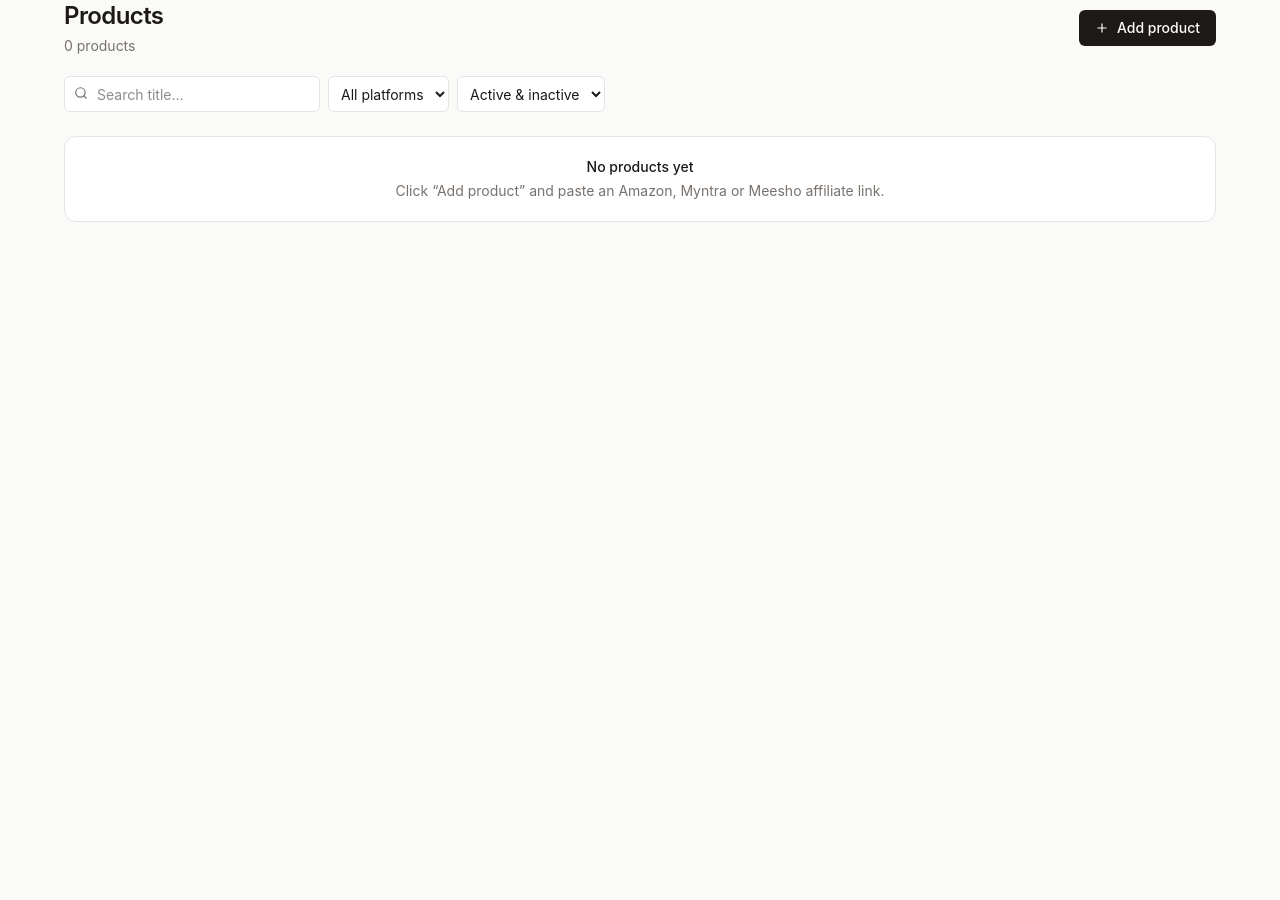
Test: Products page › validates a bad price before calling the API
The width and height of the screenshot is (1280, 900).
Click the button "Add product" at [1148, 28], box [1079,10,1216,46]
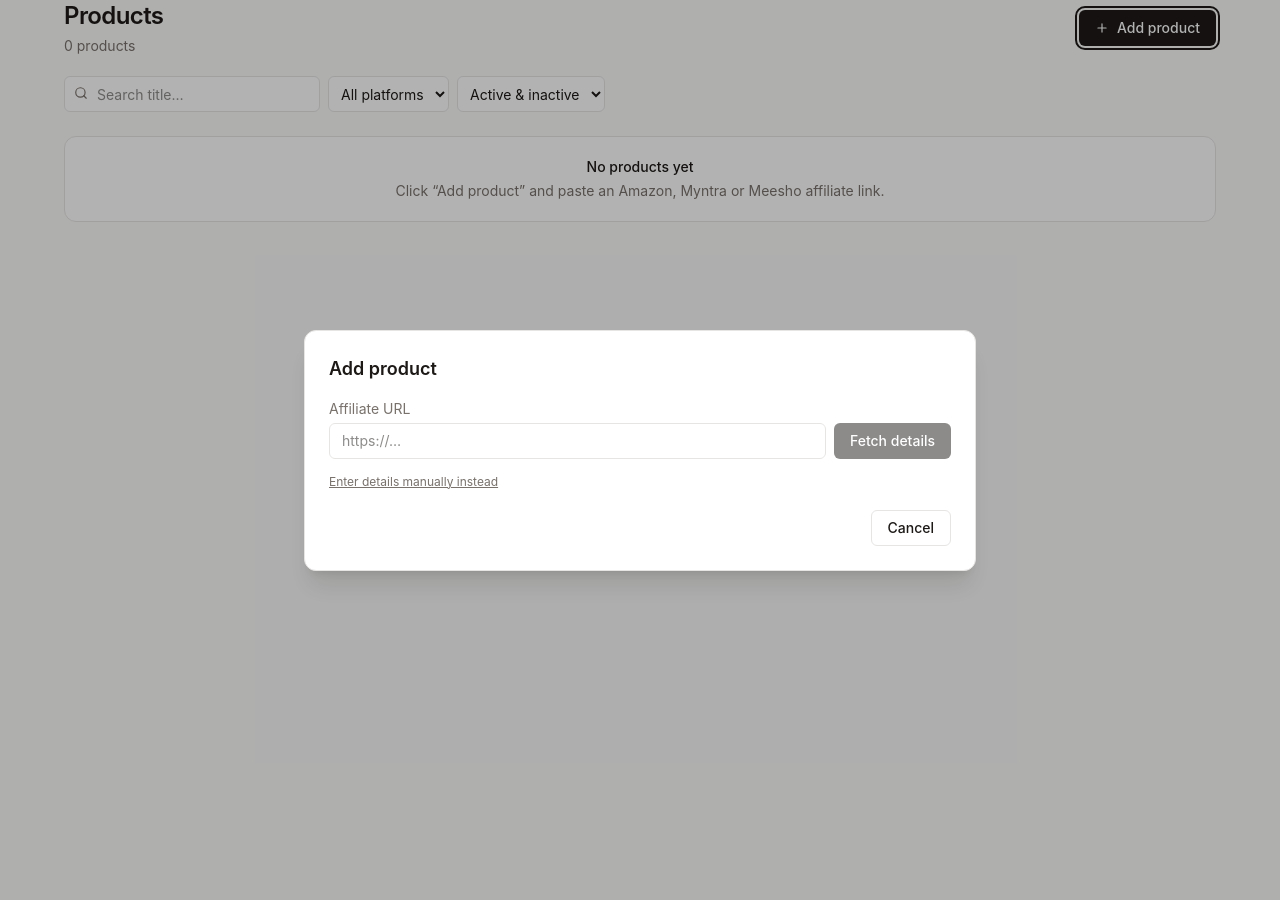
Click the button "Enter details manually instead" at [414, 482], box [329,474,498,490]
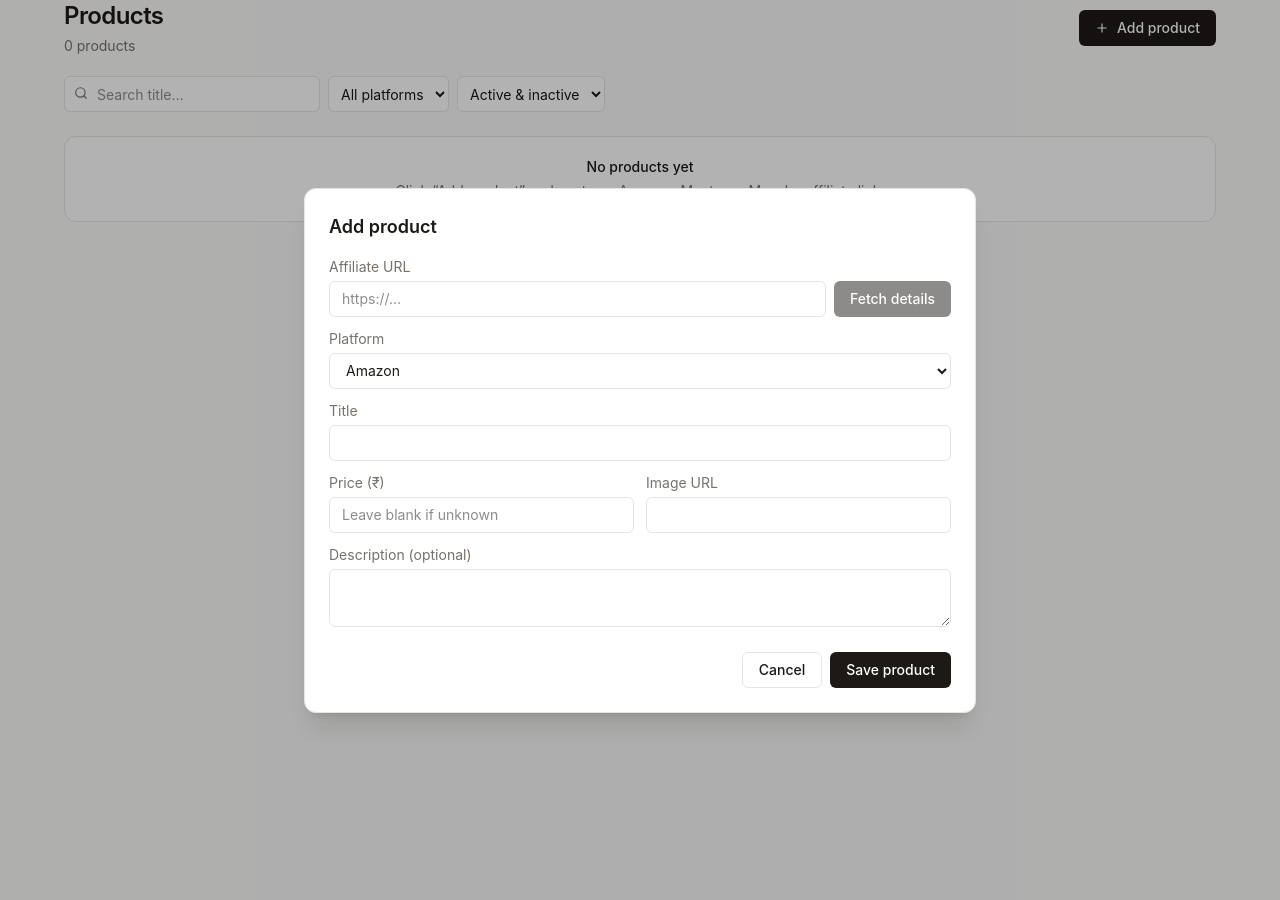
Type "X" into the field labelled "Title" at [640, 442], box [329,424,951,460]
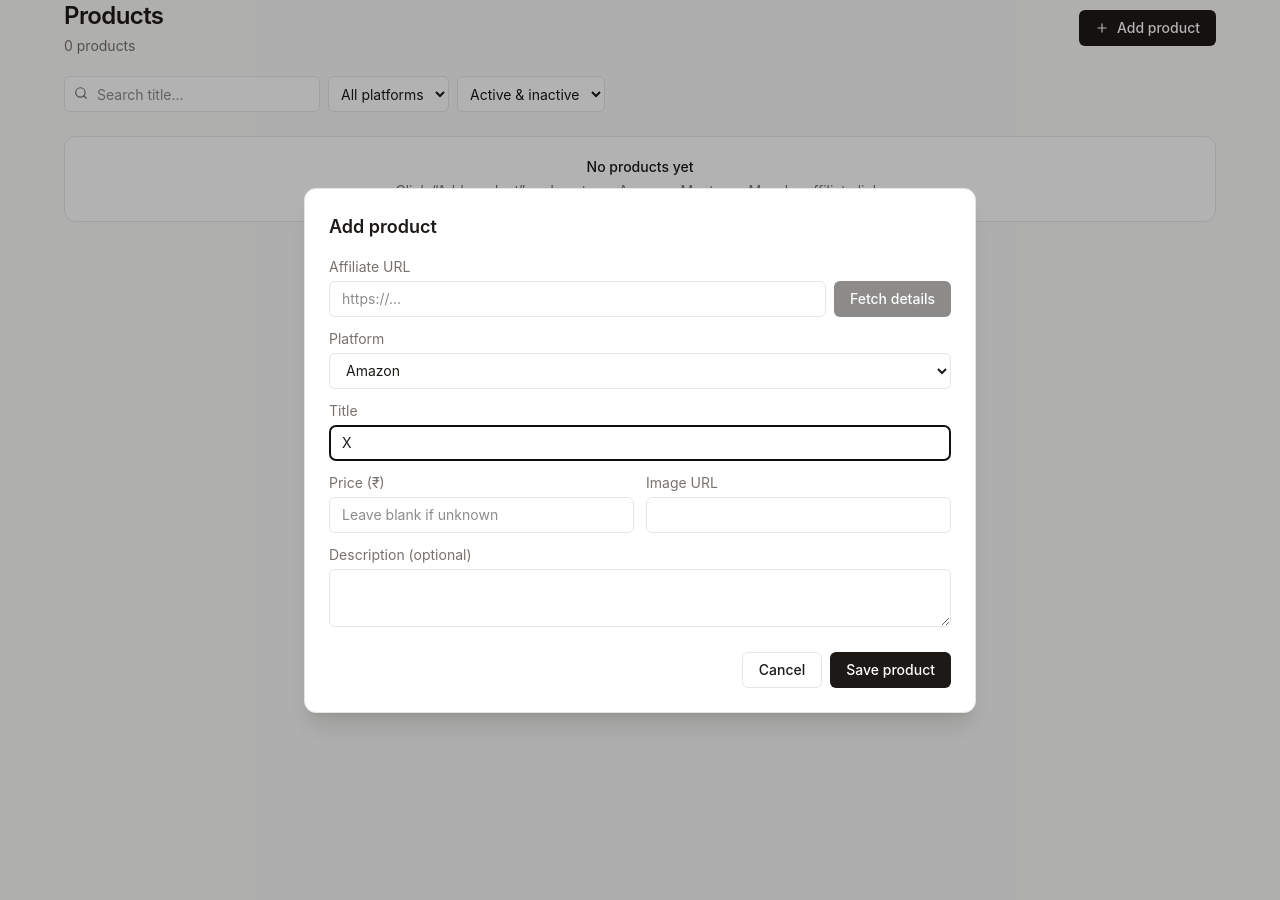
Type "abc" into the field labelled "Price" at [482, 514], box [329,496,634,532]
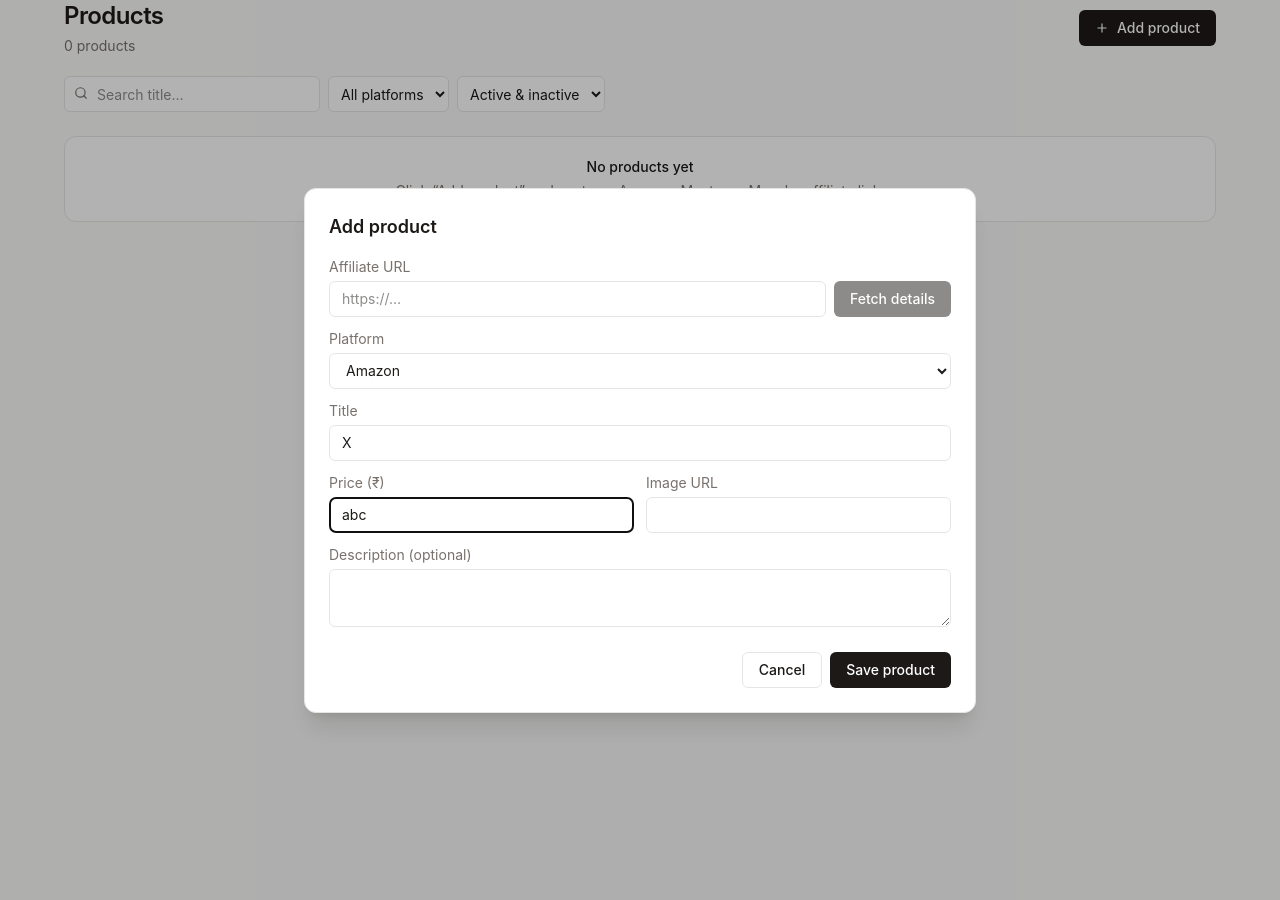
Click the button "Save product" at [891, 670], box [830,652,951,688]
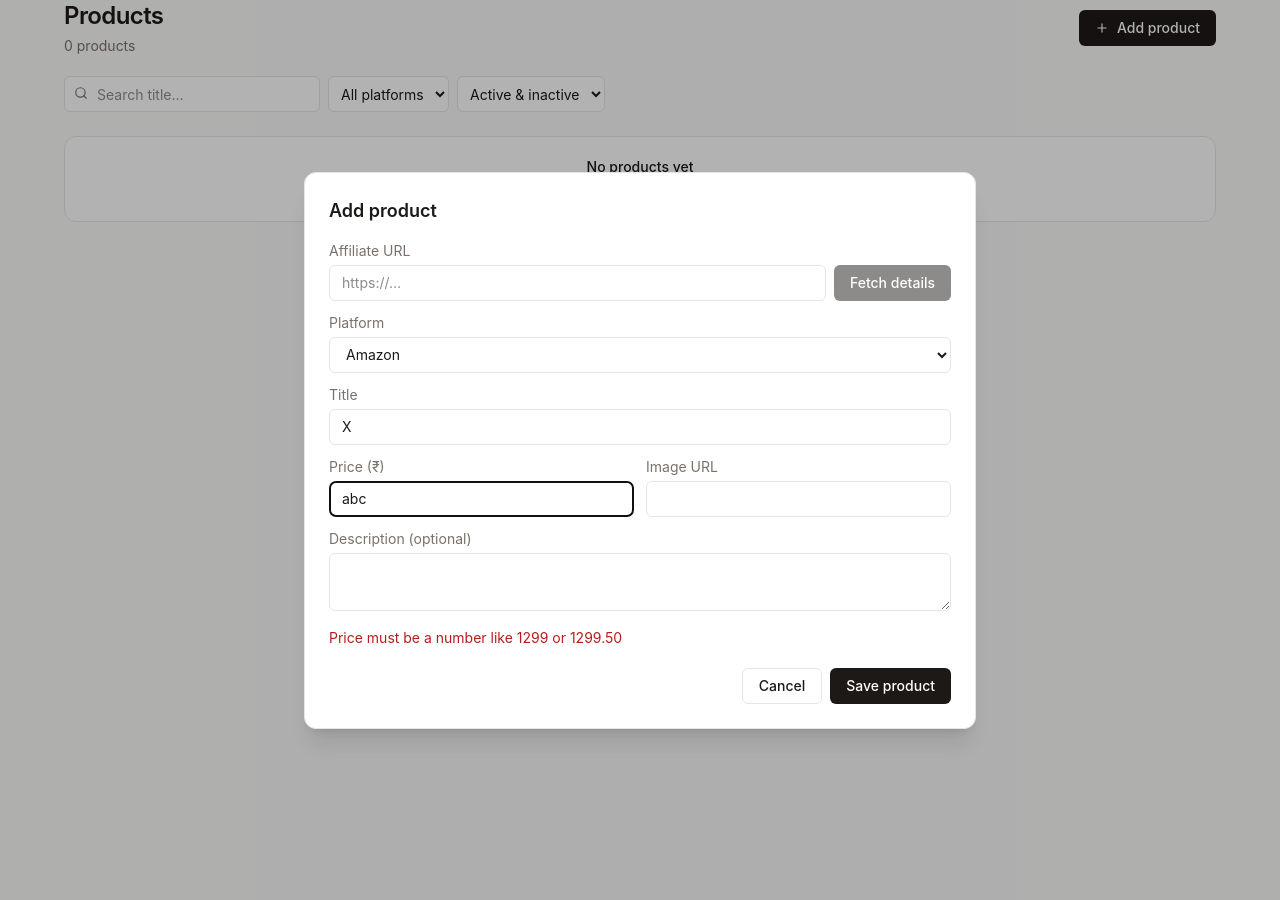
Check: the text "Price must be a number like 1299 or 1299.50" is shown, box [329,628,622,646]
